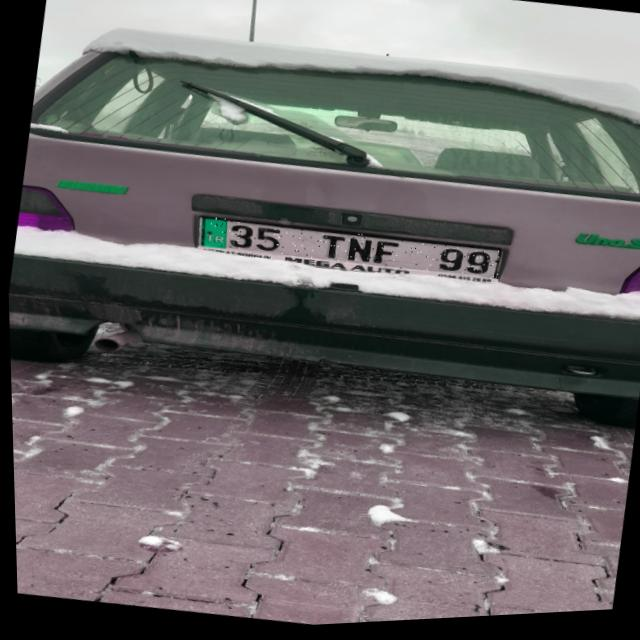license_plate: (196, 206, 501, 296)
